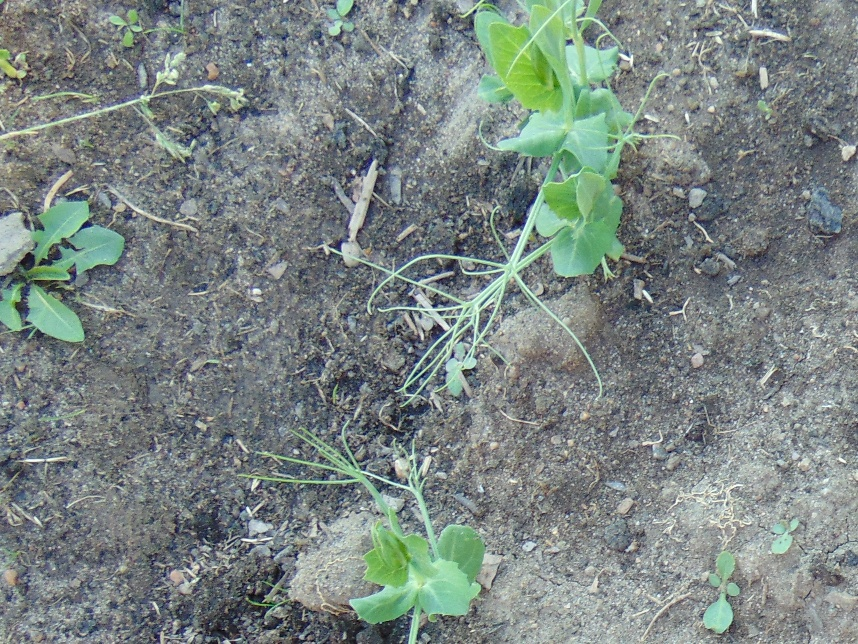crop: (424, 1, 655, 349), (310, 434, 489, 644)
weed: (1, 199, 125, 347), (698, 550, 741, 633), (770, 514, 802, 556), (111, 7, 143, 49), (324, 1, 356, 42)
